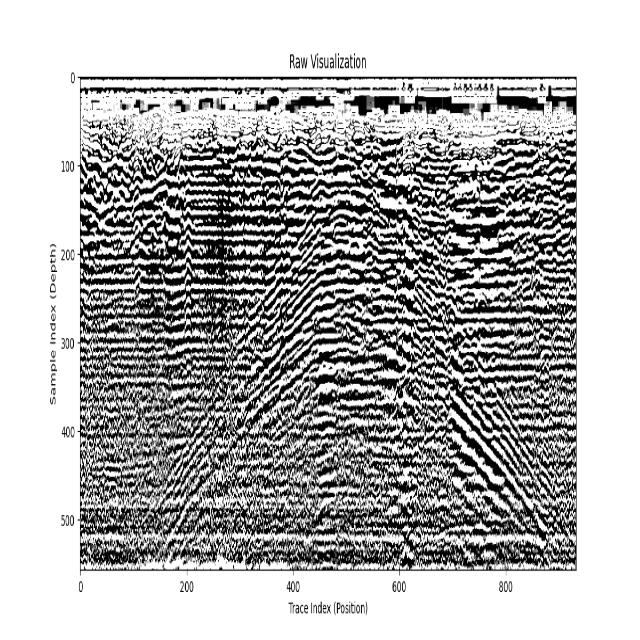anomaly: (130, 214, 573, 570)
